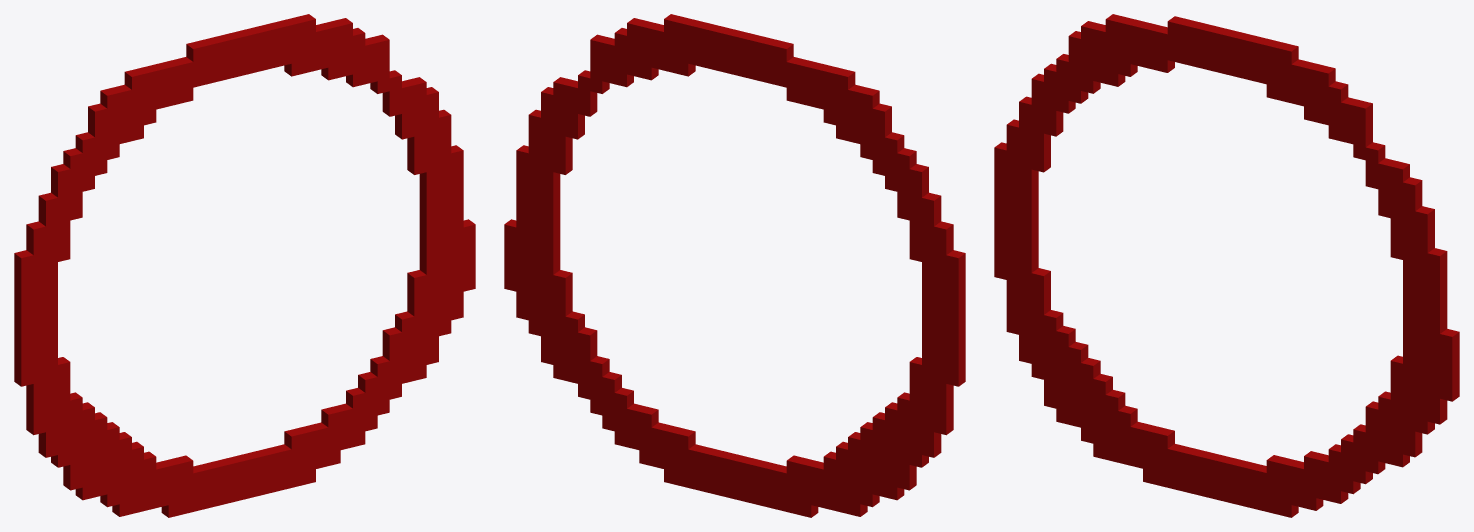
The model's file is fox2-2.obj.
3 views of the same model, side by side, from view 1: azimuth 30°, elevation 25°; view 2: azimuth 150°, elevation 25°; view 3: azimuth 330°, elevation 25° (orthographic).
Bounding box in the file's own units: 3.7 × 3.6 × 0.1.
1 material, 1 textured.
